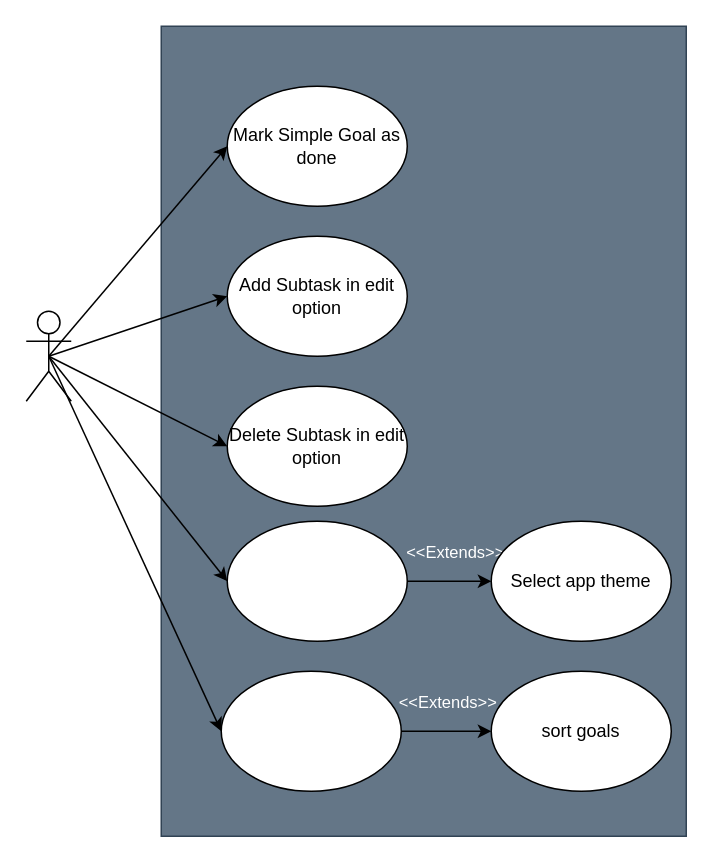
This 713x863 diagram has some shape labels left out. Each missing label, with the box of its shape:
Configure goals panel: (220, 670, 401, 791)
Configure the app: (226, 520, 407, 641)
User: (25, 310, 71, 401)
